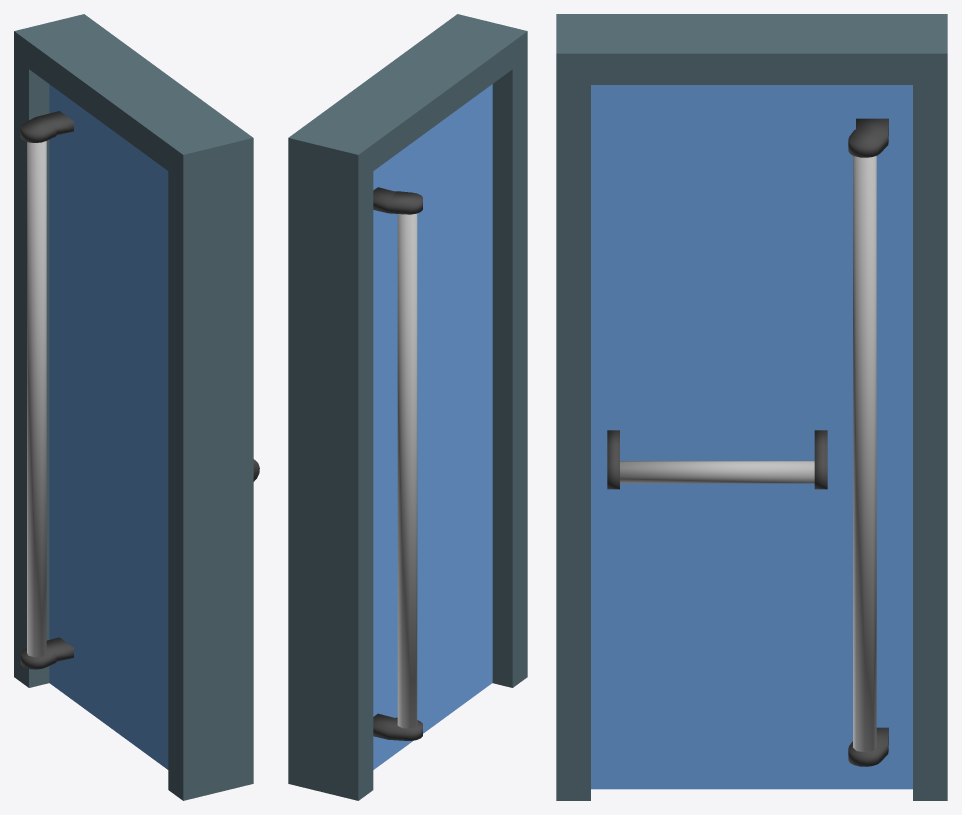
The model's file is 3DModel_Door.glb.
3 views of the same model, side by side, from view 1: azimuth 30°, elevation 25°; view 2: azimuth 150°, elevation 25°; view 3: azimuth 270°, elevation 25° (orthographic). The views are drawn at different scales.
Parts seen in each view (by area): view 1: AH_Eingangstür; view 2: AH_Eingangstür; view 3: AH_Eingangstür.
Boxes of the visible parts, bbox=[...] form: AH_Eingangstür: bbox=[14, 14, 259, 800]; AH_Eingangstür: bbox=[288, 14, 527, 800]; AH_Eingangstür: bbox=[556, 14, 947, 800].
Bounding box in the file's own units: 0.4043 × 1.99 × 0.9425.
Materials: 1 (1 with a texture image).
